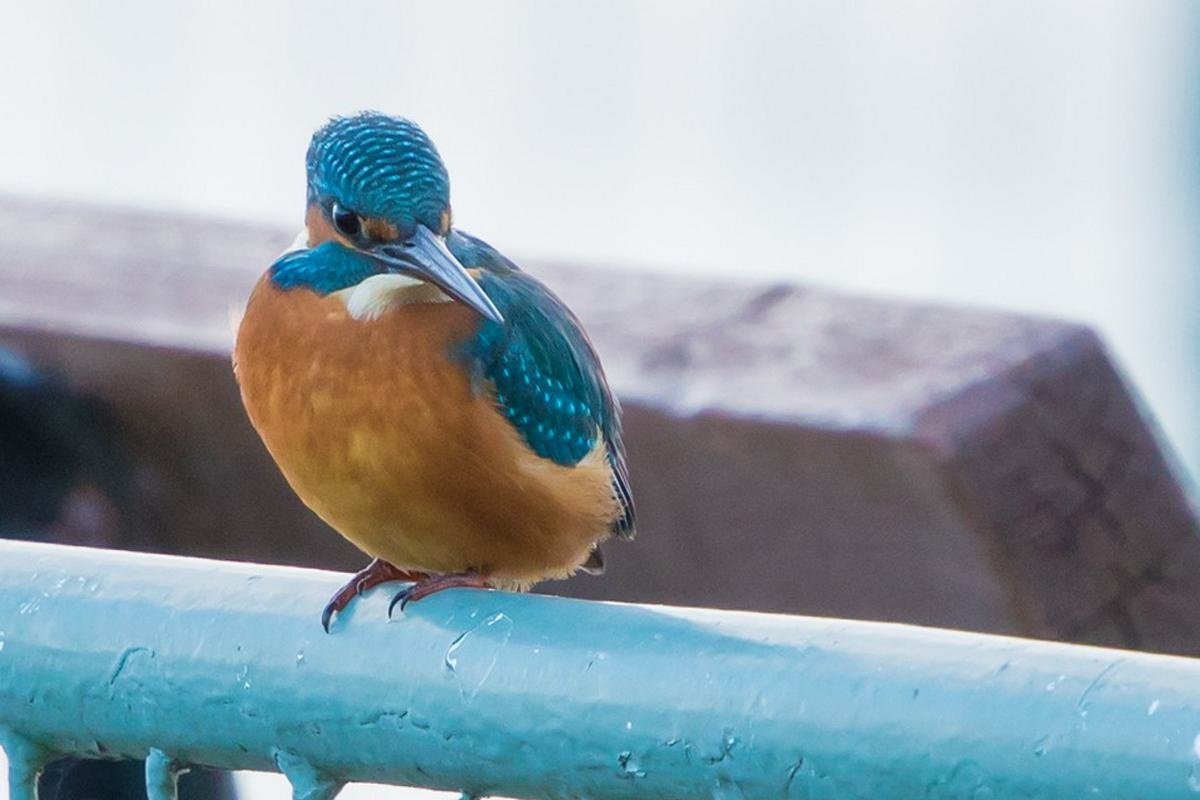kingfisher: (207, 108, 666, 636)
